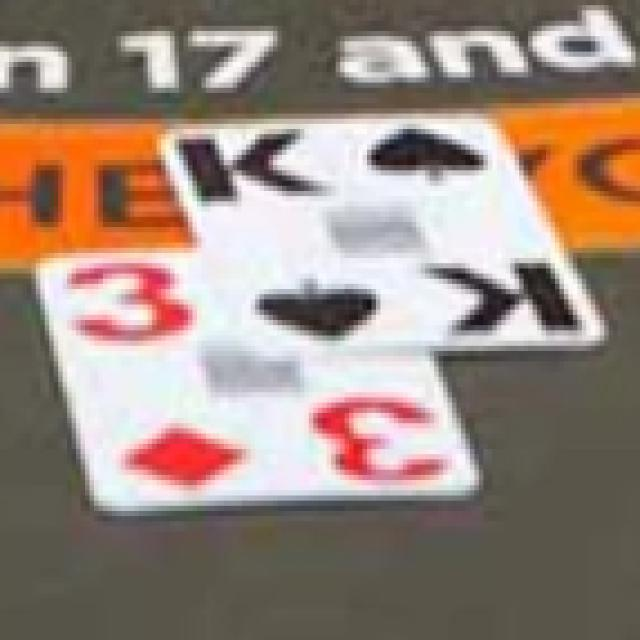Card-3: (37, 250, 474, 508)
Card-K: (164, 114, 607, 352)
